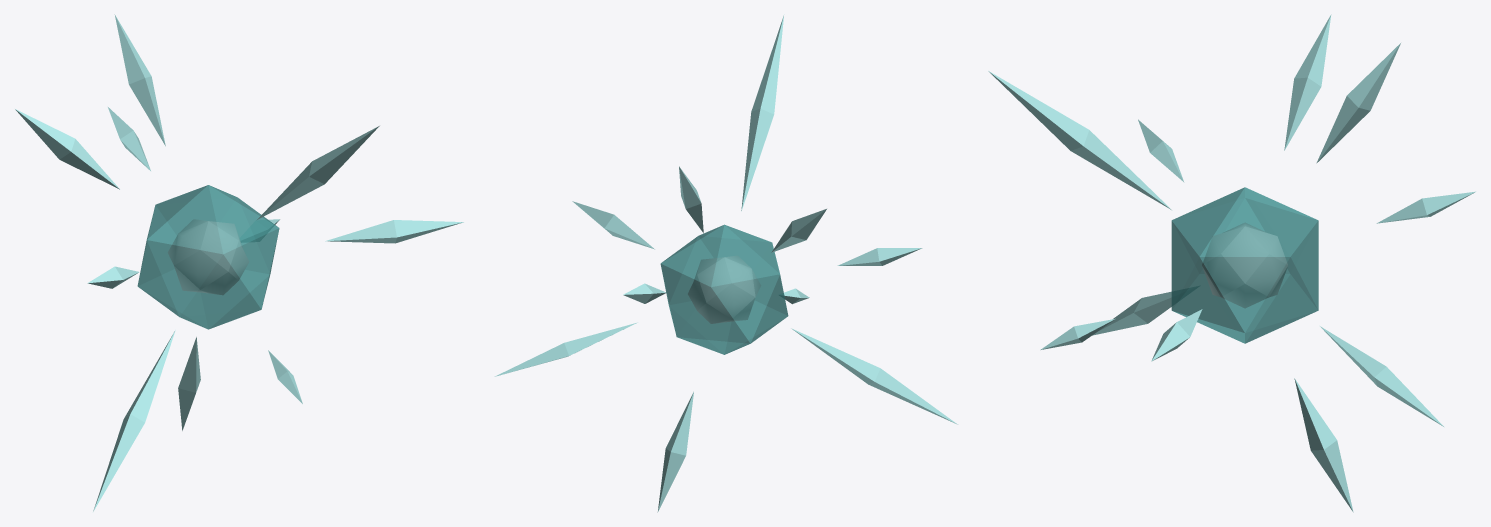
Rendered from orbWeaponModel.fbx.
The picture shows the model from 3 angles, left to right: view 1: azimuth 30°, elevation 25°; view 2: azimuth 150°, elevation 25°; view 3: azimuth 270°, elevation 25°; orthographic projection. The views are drawn at different scales.
Parts seen in each view (by area): view 1: pPlatonic1, pCube1, pPlatonic9, pPlatonic7, pPlatonic6, pPlatonic11, pPlatonic2, pPlatonic8, pPlatonic10, pPlatonic3, pPlatonic5; view 2: pPlatonic1, pCube1, pPlatonic7, pPlatonic9, pPlatonic8, pPlatonic4, pPlatonic2, pPlatonic6, pPlatonic3, pPlatonic11; view 3: pPlatonic1, pCube1, pPlatonic7, pPlatonic8, pPlatonic11, pPlatonic6, pPlatonic4, pPlatonic9, pPlatonic10, pPlatonic2, pPlatonic3, pPlatonic5.
Part boxes in pixels (x1,y1,x2,y2): pPlatonic1: [137, 185, 279, 329]; pCube1: [168, 219, 248, 294]; pPlatonic9: [93, 330, 175, 511]; pPlatonic7: [257, 126, 379, 219]; pPlatonic6: [15, 109, 119, 189]; pPlatonic11: [114, 14, 165, 146]; pPlatonic2: [325, 220, 463, 243]; pPlatonic8: [178, 337, 200, 430]; pPlatonic10: [108, 107, 150, 170]; pPlatonic3: [87, 266, 139, 288]; pPlatonic5: [268, 350, 302, 403]; pPlatonic1: [660, 224, 788, 354]; pCube1: [688, 256, 760, 323]; pPlatonic7: [741, 14, 784, 211]; pPlatonic9: [791, 328, 957, 424]; pPlatonic8: [657, 392, 693, 512]; pPlatonic4: [494, 322, 637, 376]; pPlatonic2: [572, 201, 654, 249]; pPlatonic6: [771, 209, 826, 252]; pPlatonic3: [837, 248, 922, 265]; pPlatonic11: [679, 166, 703, 232]; pPlatonic1: [1171, 187, 1318, 343]; pCube1: [1202, 222, 1287, 308]; pPlatonic7: [988, 71, 1172, 210]; pPlatonic8: [1294, 378, 1353, 512]; pPlatonic11: [1316, 43, 1400, 163]; pPlatonic6: [1284, 14, 1331, 150]; pPlatonic4: [1320, 326, 1444, 427]; pPlatonic9: [1092, 291, 1171, 335]; pPlatonic10: [1376, 191, 1475, 223]; pPlatonic2: [1151, 309, 1202, 361]; pPlatonic3: [1138, 119, 1184, 182]; pPlatonic5: [1040, 318, 1115, 349].
Size of the model in its own units: 4.92 by 4.97 by 4.81.
